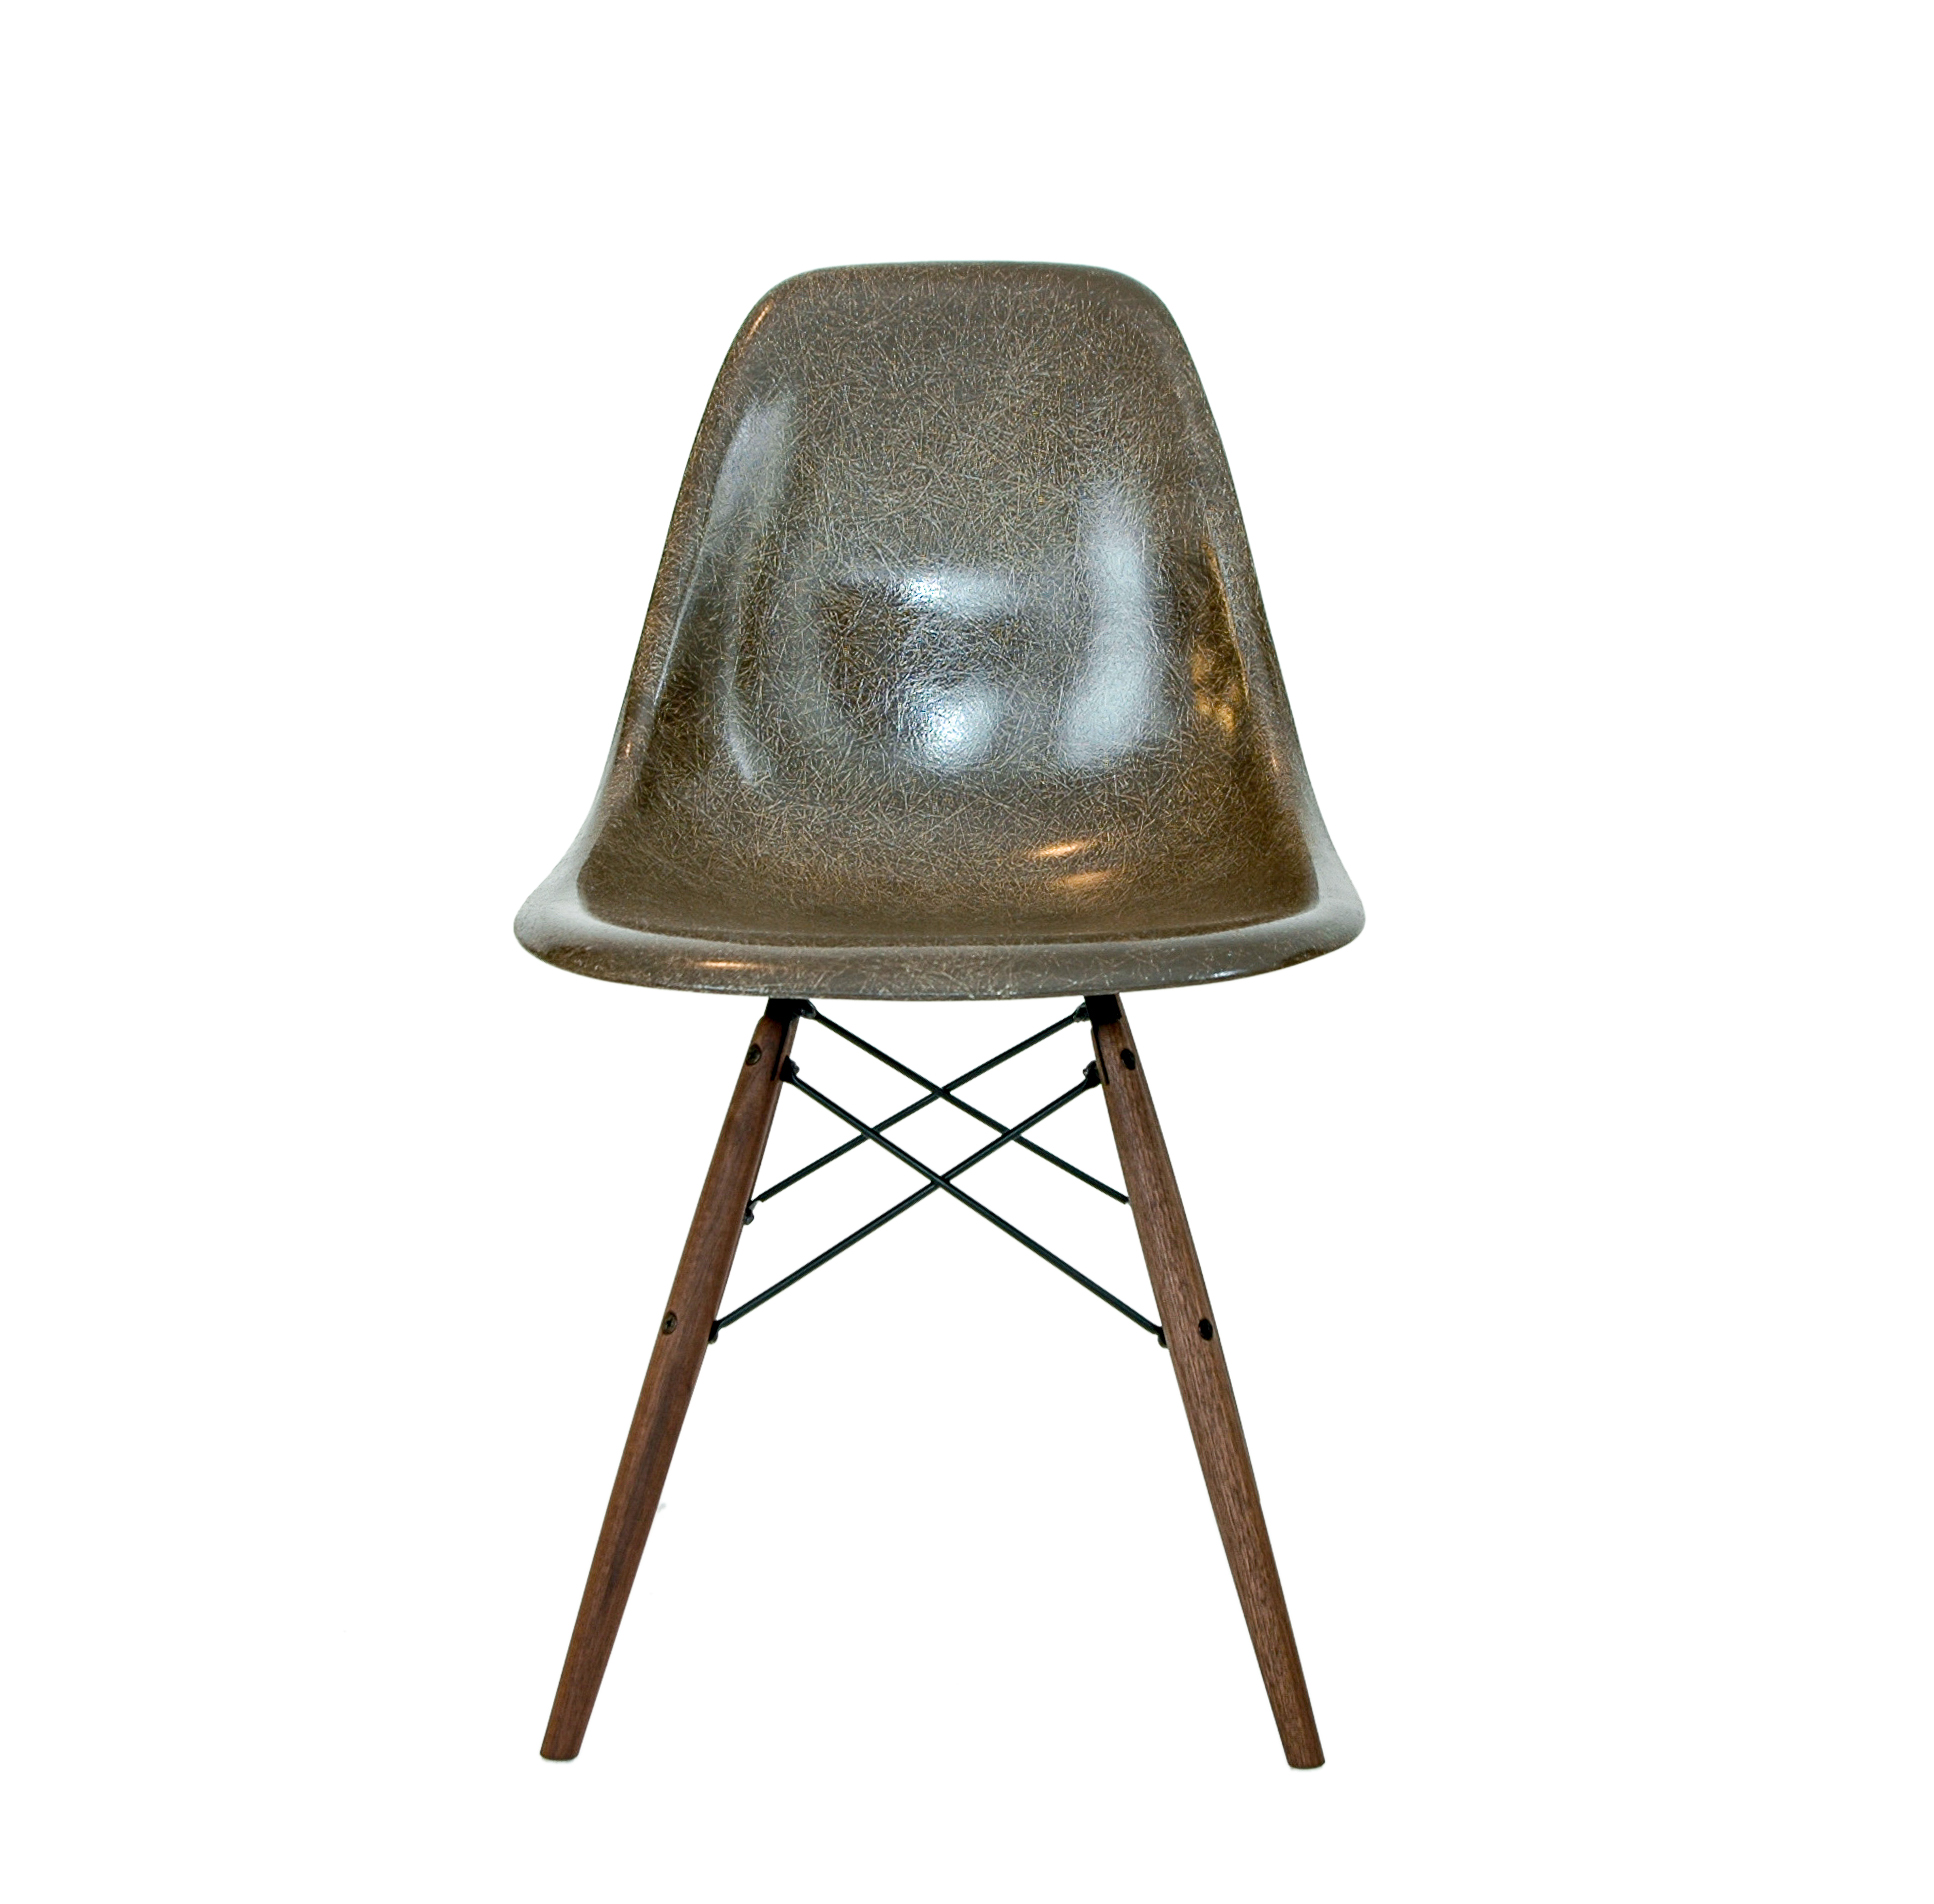kursi: (514, 258, 1355, 1771)
